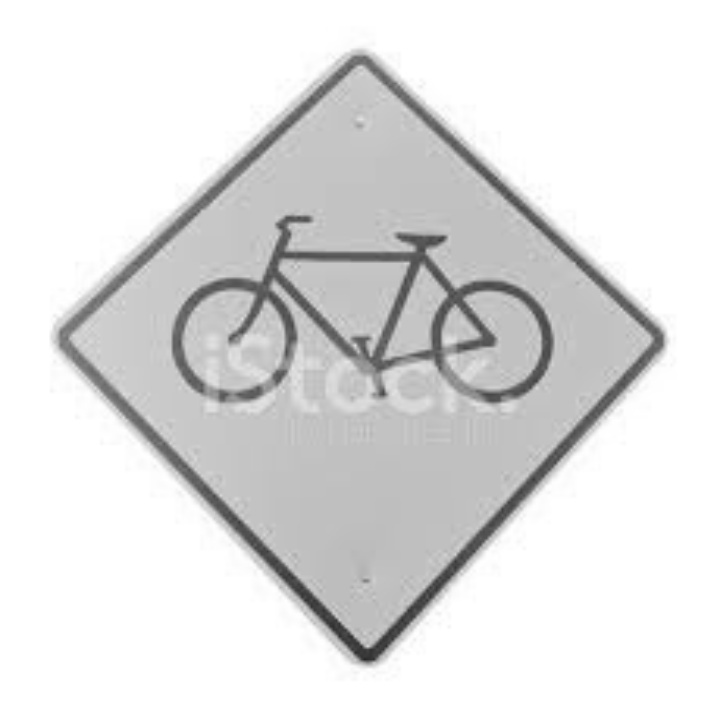bicycle: (163, 205, 573, 427)
